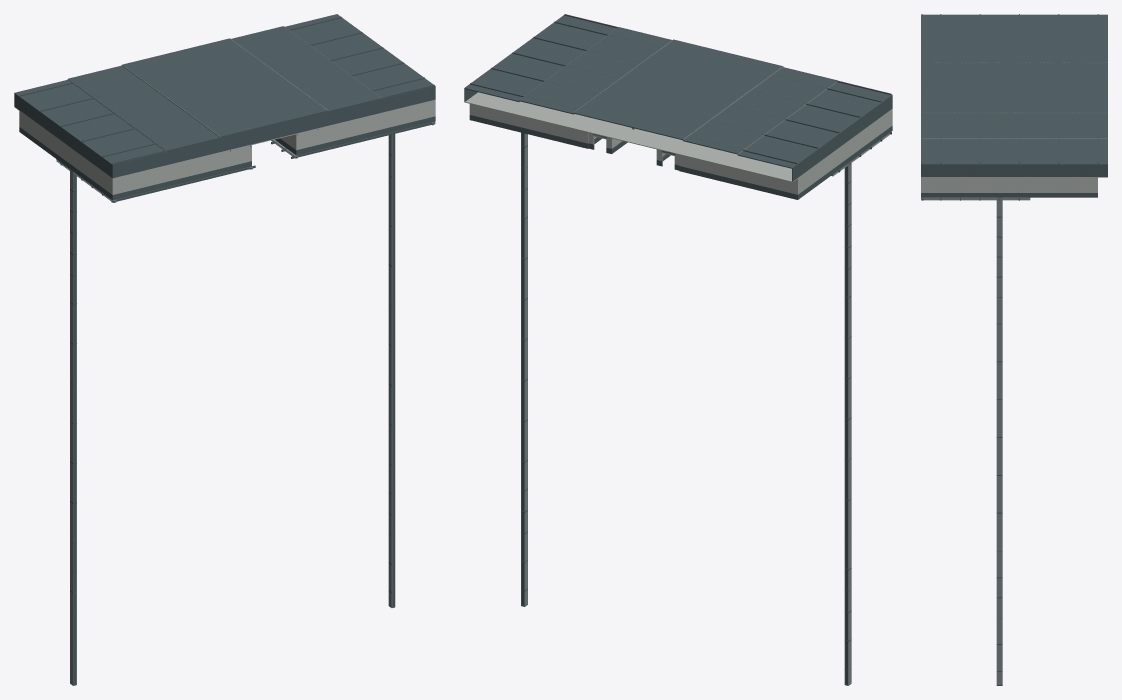
File: AST-CMD-002.glb
3 renders of one model, left to right at view 1: azimuth 30°, elevation 25°; view 2: azimuth 150°, elevation 25°; view 3: azimuth 270°, elevation 25°, orthographic. The views are drawn at different scales.
Parts seen in each view (by area): view 1: AFC_CELL_X-3_Y9_Z6_ASTRAEA_staff_bluegrey_paint, AFC_CELL_X-3_Y9_Z7_ASTRAEA_staff_bluegrey_paint, AFC_CELL_X-3_Y9_Z8_ASTRAEA_staff_bluegrey_paint, AFC_CELL_X-1_Y9_Z8_ASTRAEA_staff_bluegrey_paint, AFC_CELL_X0_Y9_Z8_ASTRAEA_staff_bluegrey_paint, AFC_CELL_X-1_Y9_Z6_ASTRAEA_staff_bluegrey_paint, AFC_CELL_X0_Y9_Z6_ASTRAEA_staff_bluegrey_paint, AFC_CELL_X0_Y9_Z7_ASTRAEA_staff_bluegrey_paint, AFC_CELL_X-1_Y9_Z7_ASTRAEA_staff_bluegrey_paint, AFC_CELL_X-2_Y9_Z6_ASTRAEA_staff_bluegrey_paint, AFC_CELL_X-2_Y9_Z7_ASTRAEA_staff_bluegrey_paint, AFC_CELL_X-2_Y9_Z8_ASTRAEA_staff_bluegrey_paint (+16 smaller); view 2: AFC_CELL_X-3_Y9_Z6_ASTRAEA_staff_bluegrey_paint, AFC_CELL_X-3_Y9_Z7_ASTRAEA_staff_bluegrey_paint, AFC_CELL_X-1_Y9_Z7_ASTRAEA_staff_bluegrey_paint, AFC_CELL_X0_Y9_Z6_ASTRAEA_staff_bluegrey_paint, AFC_CELL_X0_Y9_Z7_ASTRAEA_staff_bluegrey_paint, AFC_CELL_X-1_Y9_Z6_ASTRAEA_staff_bluegrey_paint, AFC_CELL_X-2_Y9_Z7_ASTRAEA_staff_bluegrey_paint, AFC_CELL_X-2_Y9_Z6_ASTRAEA_staff_bluegrey_paint, AFC_CELL_X2_Y9_Z6_ASTRAEA_staff_bluegrey_paint, AFC_CELL_X2_Y9_Z7_ASTRAEA_staff_bluegrey_paint, AFC_CELL_X1_Y9_Z6_ASTRAEA_staff_bluegrey_paint, AFC_CELL_X1_Y9_Z7_ASTRAEA_staff_bluegrey_paint (+18 smaller); view 3: AFC_CELL_X2_Y9_Z6_ASTRAEA_staff_bluegrey_paint, AFC_CELL_X2_Y9_Z7_ASTRAEA_staff_bluegrey_paint, AFC_CELL_X0_Y9_Z6_ASTRAEA_staff_bluegrey_paint, AFC_CELL_X0_Y9_Z7_ASTRAEA_staff_bluegrey_paint, AFC_CELL_X1_Y9_Z6_ASTRAEA_staff_bluegrey_paint, AFC_CELL_X1_Y9_Z7_ASTRAEA_staff_bluegrey_paint, AFC_CELL_X-1_Y9_Z7_ASTRAEA_staff_bluegrey_paint, AFC_CELL_X-1_Y9_Z6_ASTRAEA_staff_bluegrey_paint, AFC_CELL_X2_Y9_Z5_ASTRAEA_staff_bluegrey_paint, AFC_CELL_X-3_Y9_Z6_ASTRAEA_staff_bluegrey_paint, AFC_CELL_X-3_Y9_Z7_ASTRAEA_staff_bluegrey_paint, AFC_CELL_X-2_Y9_Z6_ASTRAEA_staff_bluegrey_paint (+27 smaller).
Boxes of the visible parts, x1,y1,x2,y2 form: AFC_CELL_X-3_Y9_Z6_ASTRAEA_staff_bluegrey_paint: (35, 95, 118, 143); AFC_CELL_X-3_Y9_Z7_ASTRAEA_staff_bluegrey_paint: (66, 117, 150, 166); AFC_CELL_X-3_Y9_Z8_ASTRAEA_staff_bluegrey_paint: (97, 140, 166, 178); AFC_CELL_X-1_Y9_Z8_ASTRAEA_staff_bluegrey_paint: (205, 112, 274, 151); AFC_CELL_X0_Y9_Z8_ASTRAEA_staff_bluegrey_paint: (259, 99, 327, 138); AFC_CELL_X-1_Y9_Z6_ASTRAEA_staff_bluegrey_paint: (143, 66, 227, 102); AFC_CELL_X0_Y9_Z6_ASTRAEA_staff_bluegrey_paint: (197, 53, 280, 89); AFC_CELL_X0_Y9_Z7_ASTRAEA_staff_bluegrey_paint: (228, 76, 311, 111); AFC_CELL_X-1_Y9_Z7_ASTRAEA_staff_bluegrey_paint: (174, 89, 258, 125); AFC_CELL_X-2_Y9_Z6_ASTRAEA_staff_bluegrey_paint: (89, 81, 172, 116); AFC_CELL_X-2_Y9_Z7_ASTRAEA_staff_bluegrey_paint: (120, 103, 203, 139); AFC_CELL_X-2_Y9_Z8_ASTRAEA_staff_bluegrey_paint: (151, 126, 220, 164); AFC_CELL_X-3_Y9_Z6_ASTRAEA_staff_bluegrey_paint: (760, 116, 845, 165); AFC_CELL_X-3_Y9_Z7_ASTRAEA_staff_bluegrey_paint: (791, 93, 876, 142); AFC_CELL_X-1_Y9_Z7_ASTRAEA_staff_bluegrey_paint: (681, 64, 766, 100); AFC_CELL_X0_Y9_Z6_ASTRAEA_staff_bluegrey_paint: (595, 74, 680, 110); AFC_CELL_X0_Y9_Z7_ASTRAEA_staff_bluegrey_paint: (627, 51, 712, 87); AFC_CELL_X-1_Y9_Z6_ASTRAEA_staff_bluegrey_paint: (650, 87, 734, 123); AFC_CELL_X-2_Y9_Z7_ASTRAEA_staff_bluegrey_paint: (736, 79, 821, 114); AFC_CELL_X-2_Y9_Z6_ASTRAEA_staff_bluegrey_paint: (705, 102, 790, 137); AFC_CELL_X2_Y9_Z6_ASTRAEA_staff_bluegrey_paint: (485, 49, 569, 85); AFC_CELL_X2_Y9_Z7_ASTRAEA_staff_bluegrey_paint: (517, 26, 601, 62); AFC_CELL_X1_Y9_Z6_ASTRAEA_staff_bluegrey_paint: (540, 62, 624, 97); AFC_CELL_X1_Y9_Z7_ASTRAEA_staff_bluegrey_paint: (572, 38, 656, 74); AFC_CELL_X2_Y9_Z6_ASTRAEA_staff_bluegrey_paint: (1009, 138, 1068, 176); AFC_CELL_X2_Y9_Z7_ASTRAEA_staff_bluegrey_paint: (950, 138, 1009, 176); AFC_CELL_X0_Y9_Z6_ASTRAEA_staff_bluegrey_paint: (1009, 87, 1068, 112); AFC_CELL_X0_Y9_Z7_ASTRAEA_staff_bluegrey_paint: (950, 87, 1009, 112); AFC_CELL_X1_Y9_Z6_ASTRAEA_staff_bluegrey_paint: (1009, 113, 1068, 138); AFC_CELL_X1_Y9_Z7_ASTRAEA_staff_bluegrey_paint: (950, 113, 1009, 138); AFC_CELL_X-1_Y9_Z7_ASTRAEA_staff_bluegrey_paint: (950, 62, 1009, 87); AFC_CELL_X-1_Y9_Z6_ASTRAEA_staff_bluegrey_paint: (1009, 62, 1068, 87); AFC_CELL_X2_Y9_Z5_ASTRAEA_staff_bluegrey_paint: (1068, 138, 1107, 176); AFC_CELL_X-3_Y9_Z6_ASTRAEA_staff_bluegrey_paint: (1009, 14, 1068, 38); AFC_CELL_X-3_Y9_Z7_ASTRAEA_staff_bluegrey_paint: (950, 14, 1009, 38); AFC_CELL_X-2_Y9_Z6_ASTRAEA_staff_bluegrey_paint: (1009, 38, 1068, 62).
Bounding box in the file's own units: 72 × 118 × 38.
4 materials, 4 textured.
